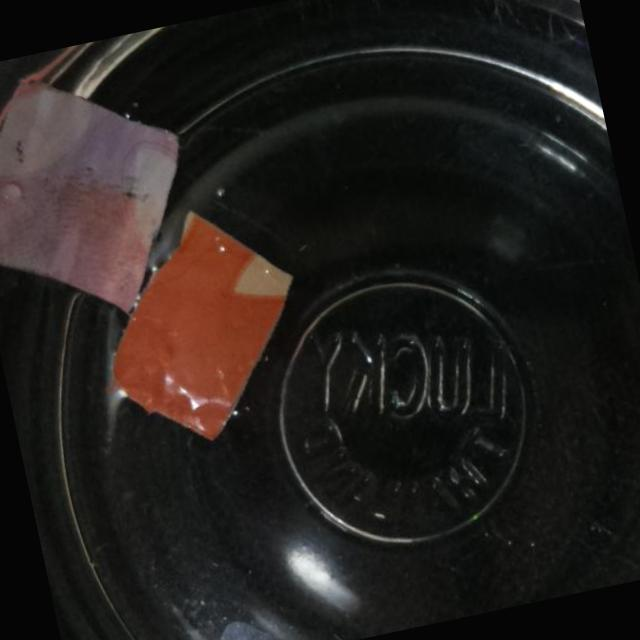fiber: (67, 189, 334, 463), (0, 39, 215, 339)
